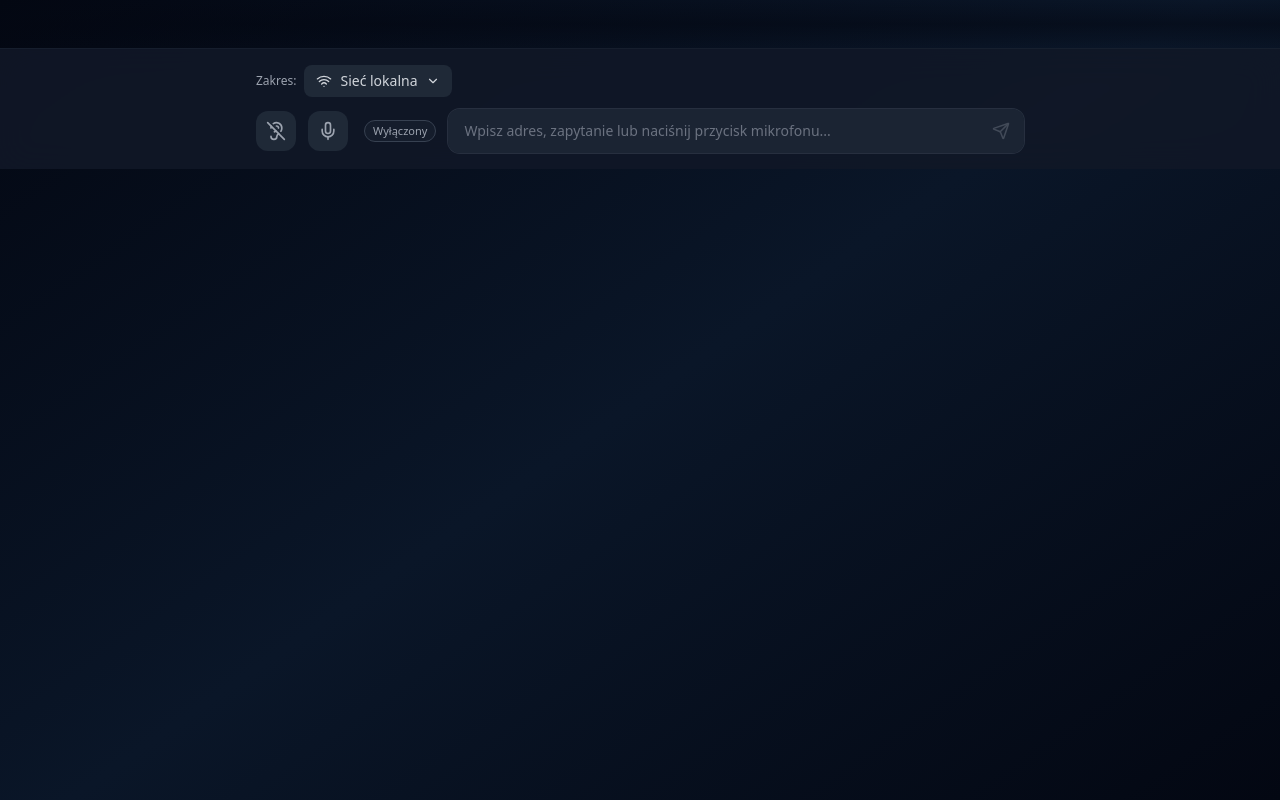
Chat — TTS auto-play › nie wywołuje TTS gdy tts_enabled=false
The image size is (1280, 800).
Type "onet.pl" into the field with placeholder "Wpisz adres, zapytanie lub naciśnij przycisk mikrofonu...". click: (736, 131)
box: [448, 109, 1024, 153]
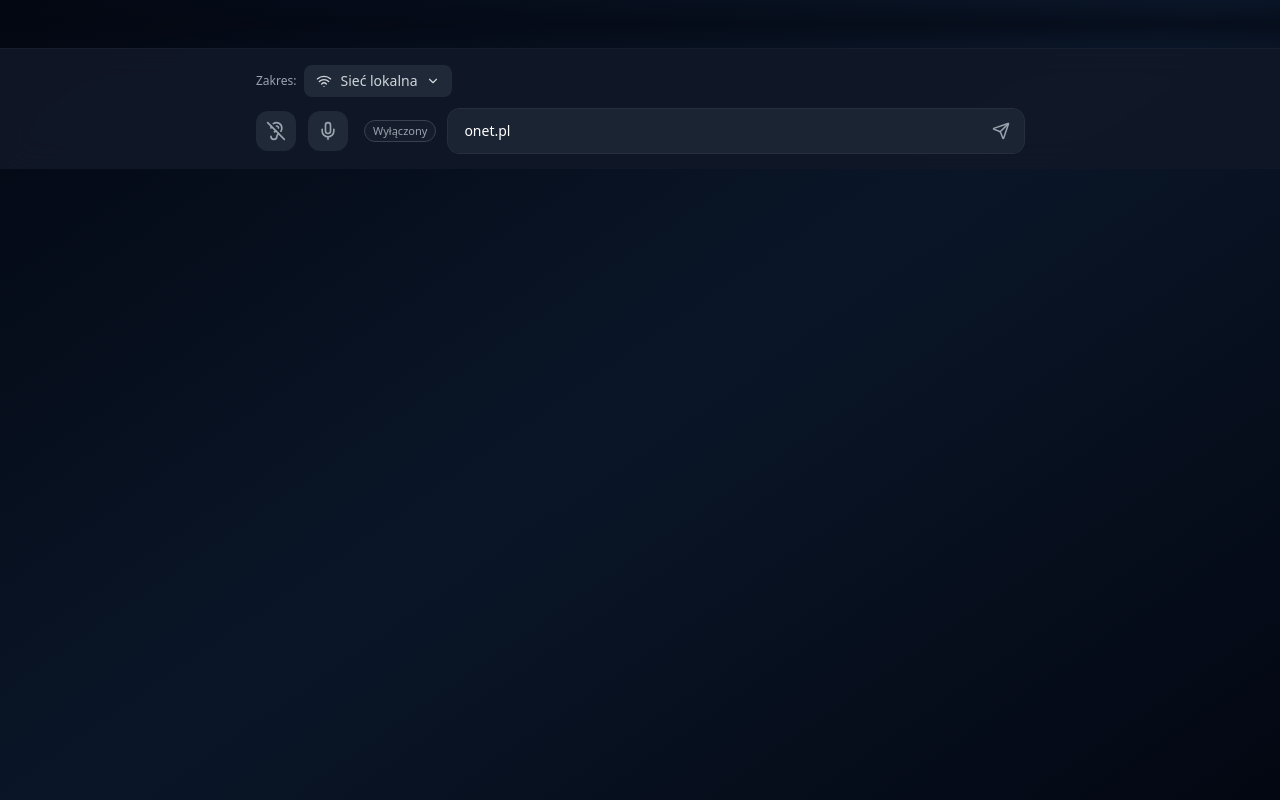
Press Enter in the field with placeholder "Wpisz adres, zapytanie lub naciśnij przycisk mikrofonu...", box [448, 109, 1024, 153]
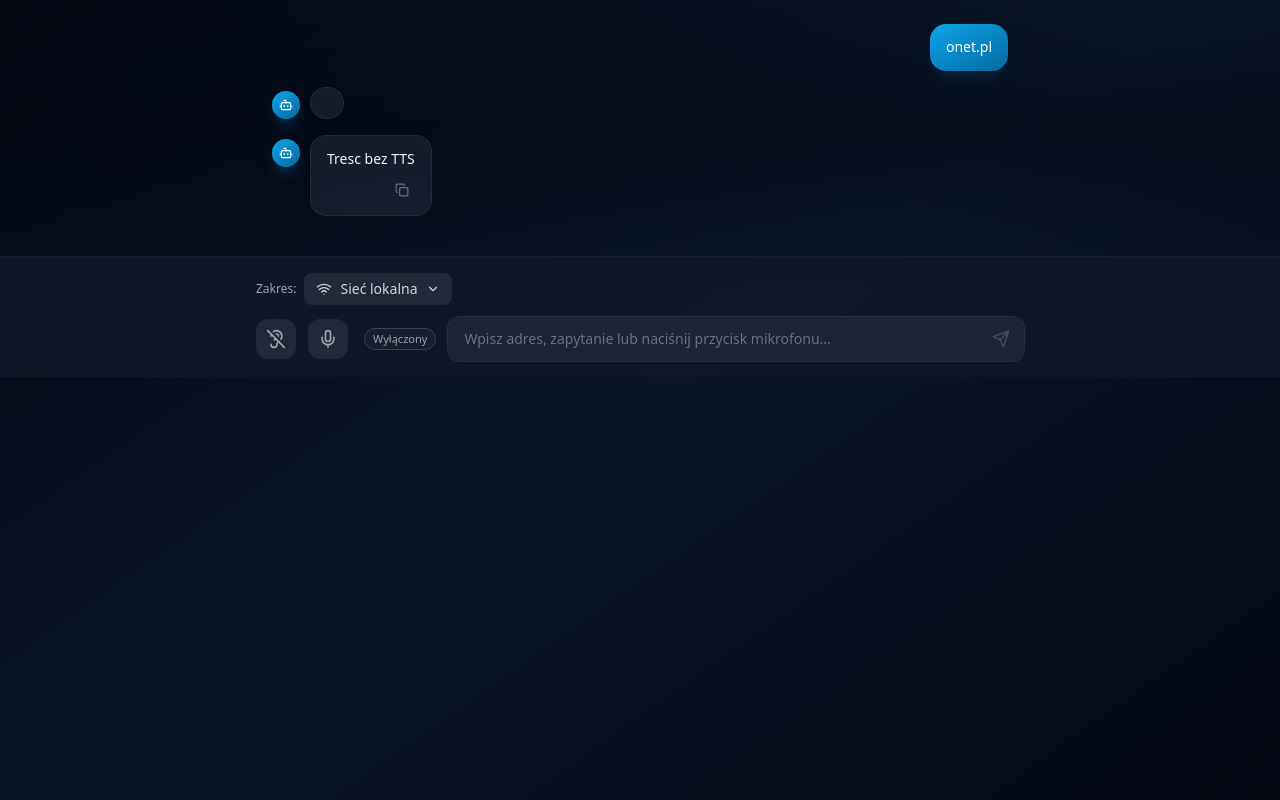
Expected: the text "Tresc bez TTS" is shown, [327, 148, 415, 171]
